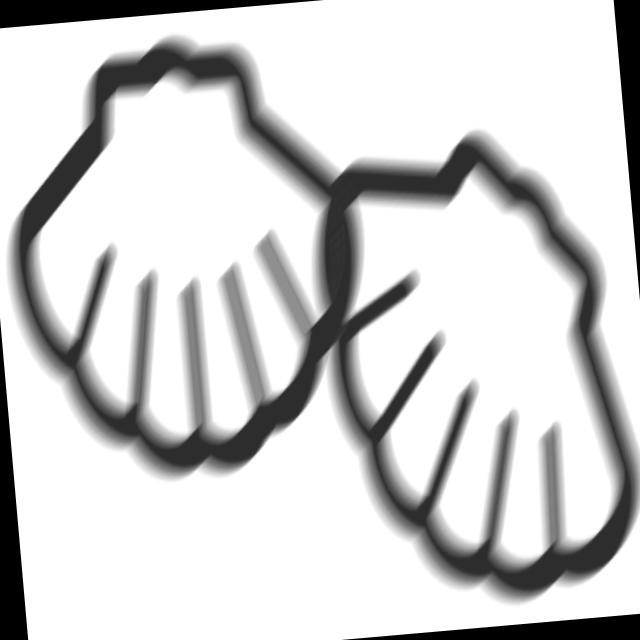shell: (1, 9, 389, 507), (294, 104, 640, 628)
